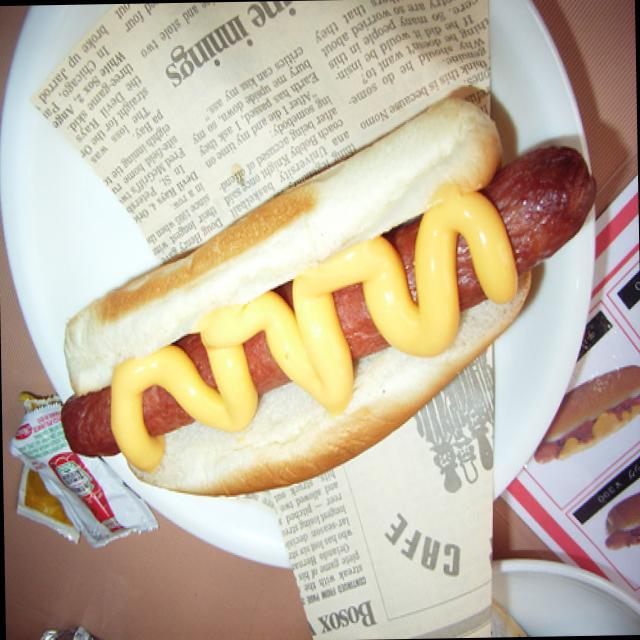Hot Dog: (62, 89, 590, 510)
